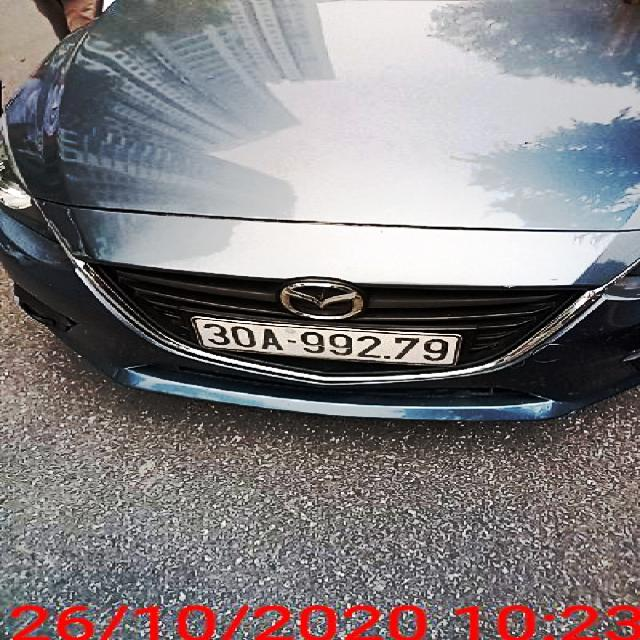license_plate: (195, 318, 463, 367)
